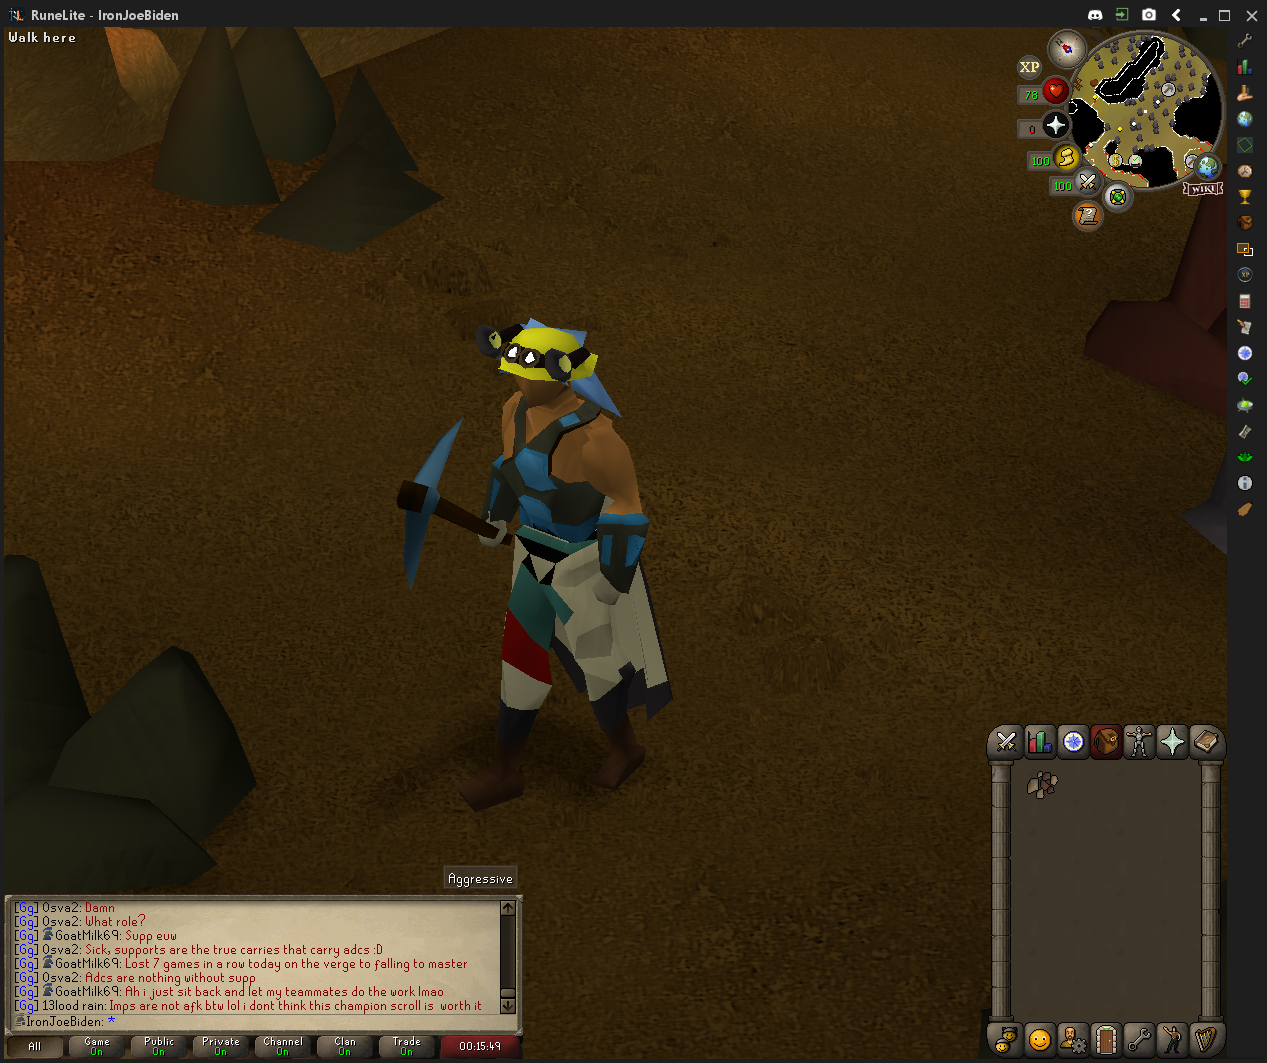rune_pickaxe: (371, 415, 514, 603)
